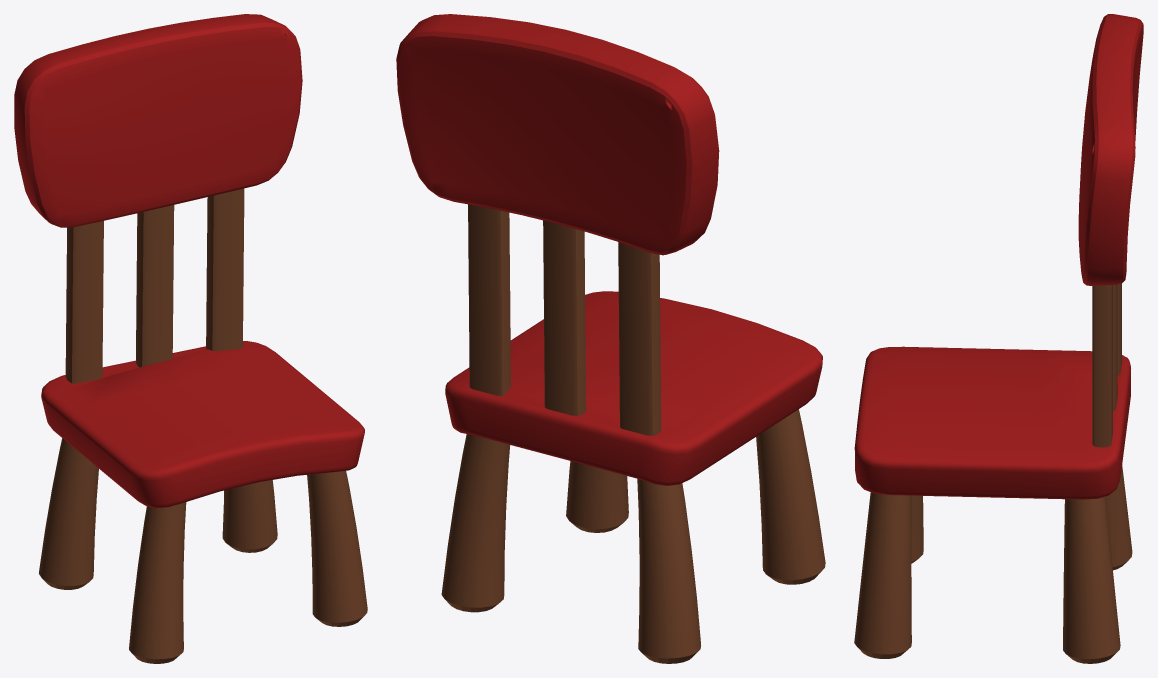
File: Chair.FBX
3 renders of one model, left to right at view 1: azimuth 30°, elevation 25°; view 2: azimuth 150°, elevation 25°; view 3: azimuth 270°, elevation 25°, orthographic. The views are drawn at different scales.
Visible parts, largest first — view 1: Box116; view 2: Box116; view 3: Box116.
Part boxes in pixels (x1,y1,x2,y2): Box116: (14,14,367,663); Box116: (396,14,825,663); Box116: (854,14,1143,663).
Size of the model in its own units: 22.41 by 41.2 by 19.61.
